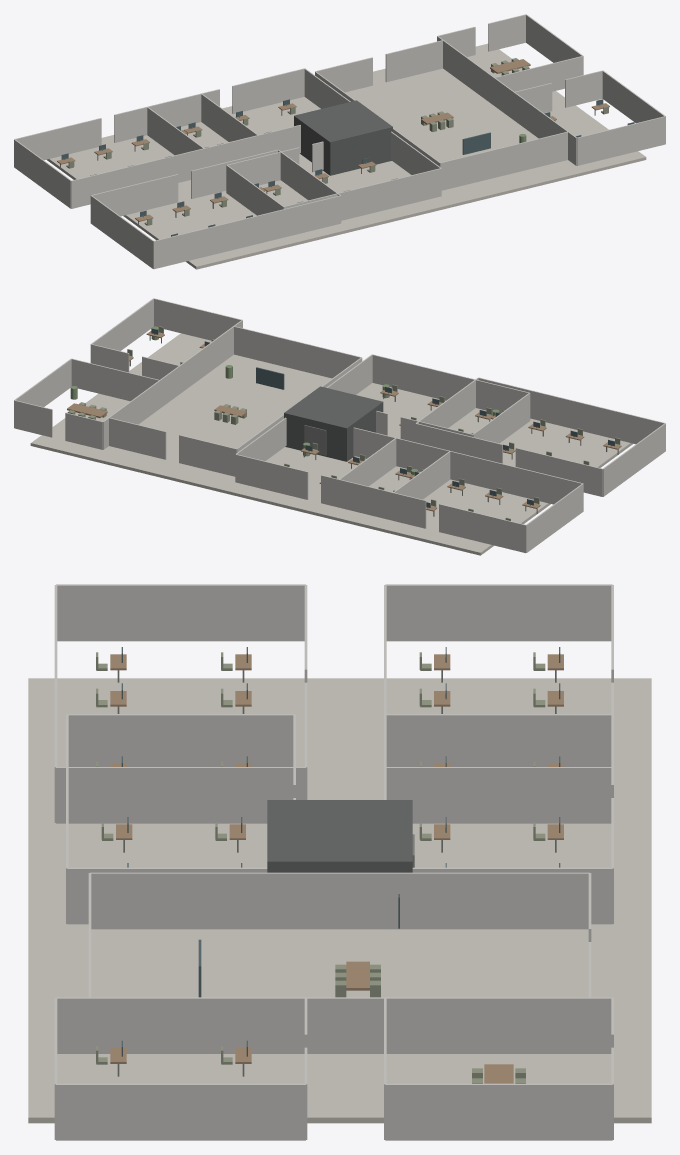
The picture shows the model from 3 angles, top to bottom: view 1: azimuth 30°, elevation 25°; view 2: azimuth 150°, elevation 25°; view 3: azimuth 270°, elevation 25°; orthographic projection. The views are drawn at different scales.
Parts seen in each view (by area): view 1: L1_slab, ai_data_north, L1_core, lab_demo_north, research_innovation_north, tech_workspace_north, collab_focus_north, lab_demo_east, ai_data_south_l, tech_workspace_south_r, tech_workspace_south_l, product_ux_south_r (+24 smaller); view 2: L1_slab, L1_core, ai_data_north, research_innovation_north, tech_workspace_north, lab_demo_north, tech_workspace_south_l, tech_workspace_south_r, lab_demo_east, project_room_north, product_ux_south_r, collab_focus_north (+25 smaller); view 3: L1_slab, lab_demo_west, lab_demo_east, collab_focus_east, ai_data_west, project_room_east, ai_data_east, tech_workspace_west, tech_workspace_east, product_ux_west, research_innovation_west, L1_core (+5 smaller).
Boxes of the visible parts, x1,y1,x2,y2 form: L1_slab: (46, 43, 646, 269); ai_data_north: (153, 195, 340, 269); L1_core: (294, 100, 392, 175); lab_demo_north: (440, 131, 567, 190); research_innovation_north: (283, 168, 441, 220); tech_workspace_north: (71, 135, 258, 208); collab_focus_north: (577, 116, 665, 165); lab_demo_east: (444, 40, 568, 138); ai_data_south_l: (91, 174, 178, 216); tech_workspace_south_r: (114, 93, 201, 142); tech_workspace_south_l: (14, 118, 101, 160); product_ux_south_r: (232, 68, 304, 113); L1_slab: (30, 333, 633, 555); L1_core: (284, 386, 383, 461); ai_data_north: (478, 377, 665, 444); research_innovation_north: (372, 354, 529, 413); tech_workspace_north: (397, 438, 582, 504); lab_demo_north: (234, 326, 361, 378); tech_workspace_south_l: (439, 504, 526, 553); tech_workspace_south_r: (339, 479, 426, 528); lab_demo_east: (108, 326, 233, 423); project_room_north: (71, 358, 158, 401); product_ux_south_r: (235, 454, 308, 499); collab_focus_north: (154, 298, 242, 340); L1_slab: (28, 678, 651, 1123); lab_demo_west: (90, 872, 589, 929); lab_demo_east: (90, 997, 589, 1053); collab_focus_east: (56, 1083, 305, 1140); ai_data_west: (56, 584, 305, 641); project_room_east: (385, 1083, 612, 1140); ai_data_east: (56, 767, 305, 823); tech_workspace_west: (385, 584, 612, 641); tech_workspace_east: (385, 767, 612, 823); product_ux_west: (385, 714, 612, 766); research_innovation_west: (67, 714, 294, 766); L1_core: (267, 800, 412, 872).
Size of the model in its own units: 52.12 by 3.54 by 27.43.
